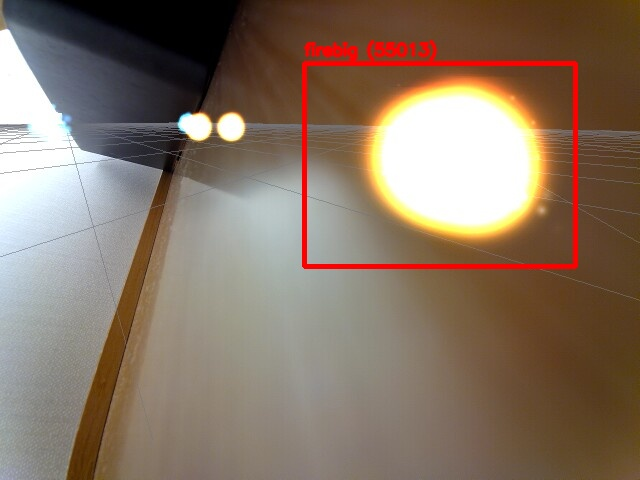firebig: (304, 63, 575, 266)
